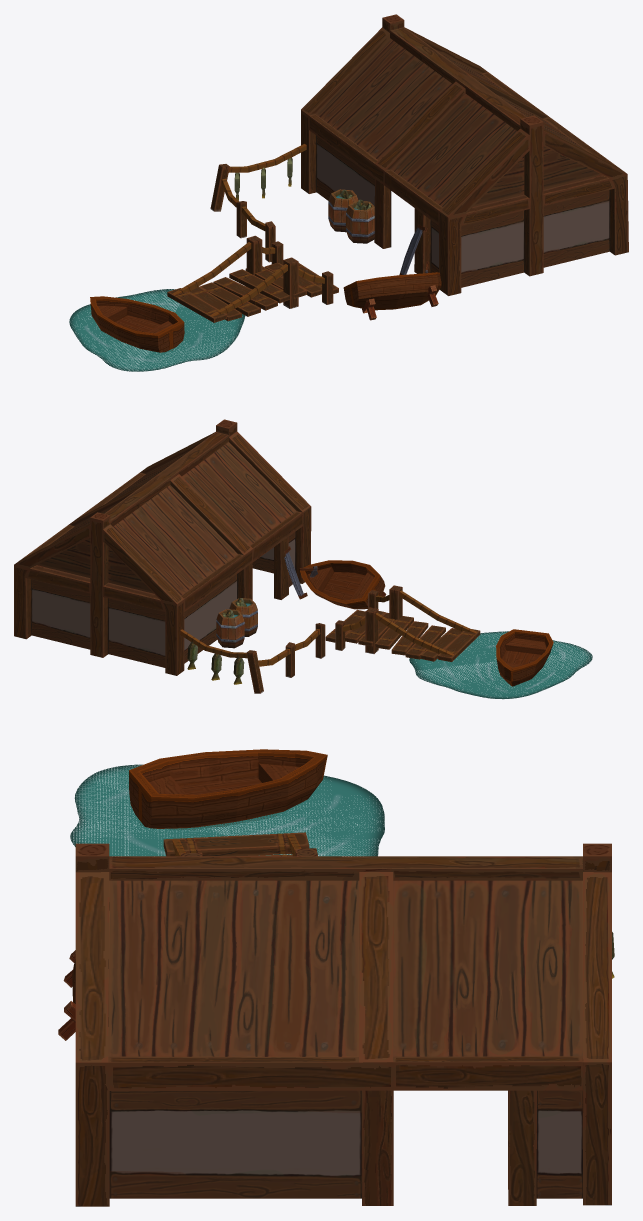
File: fishermanHouse_02.gltf
3 views of the same model, one above another, from view 1: azimuth 30°, elevation 25°; view 2: azimuth 150°, elevation 25°; view 3: azimuth 270°, elevation 25° (orthographic). The views are drawn at different scales.
Visible parts, largest first — view 1: Cube.130, visibleFalse, Cube.140, Cube, Cube.003, Cube.125, Cube.123, Cylinder.004, Cylinder.003, Cube.009, Cube.007; view 2: Cube.130, visibleFalse, Cube.140, Cube.003, Cube, Cube.125, Cube.123, Cylinder.003, Cube.009, Cylinder.004, Cube.008, Cube.007; view 3: Cube.130, visibleFalse, Cube, Cube.140.
Part boxes in pixels (x1,y1,x2,y2): Cube.130: (301, 14, 628, 295); visibleFalse: (69, 289, 245, 371); Cube.140: (167, 263, 338, 322); Cube: (90, 296, 184, 352); Cube.003: (343, 272, 441, 310); Cube.125: (246, 235, 333, 308); Cube.123: (172, 242, 324, 316); Cylinder.004: (346, 201, 374, 243); Cylinder.003: (328, 189, 358, 232); Cube.009: (236, 201, 275, 262); Cube.007: (228, 144, 306, 172); Cube.130: (14, 419, 311, 675); visibleFalse: (409, 631, 592, 699); Cube.140: (325, 609, 480, 661); Cube.003: (300, 560, 385, 609); Cube: (496, 629, 553, 686); Cube.125: (335, 585, 402, 653); Cube.123: (342, 590, 476, 655); Cylinder.003: (216, 609, 244, 648); Cube.009: (285, 623, 325, 677); Cylinder.004: (229, 598, 257, 636); Cube.008: (246, 650, 263, 693); Cube.007: (180, 629, 247, 658); Cube.130: (75, 843, 611, 1206); visibleFalse: (70, 764, 384, 856); Cube: (129, 749, 327, 829); Cube.140: (163, 832, 309, 856).
Size of the model in its own units: 1177 by 354 by 636.
Materials: 14 (14 with a texture image).
